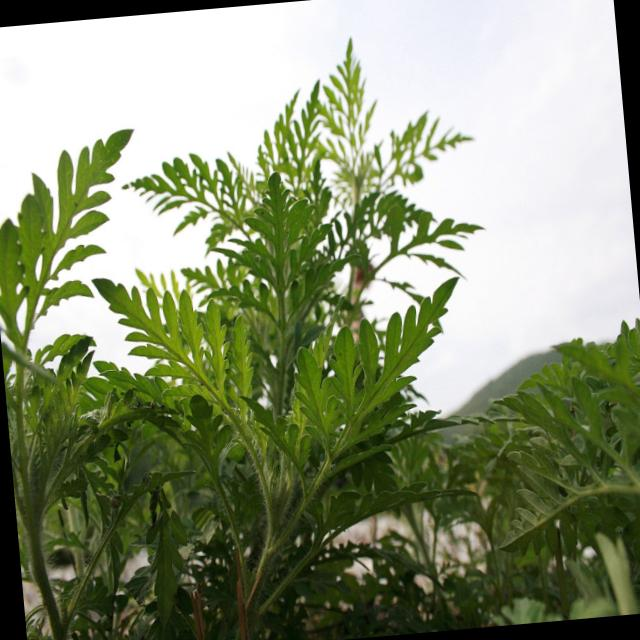ambrosia: (226, 282, 477, 496), (99, 242, 274, 474), (0, 116, 146, 374)
